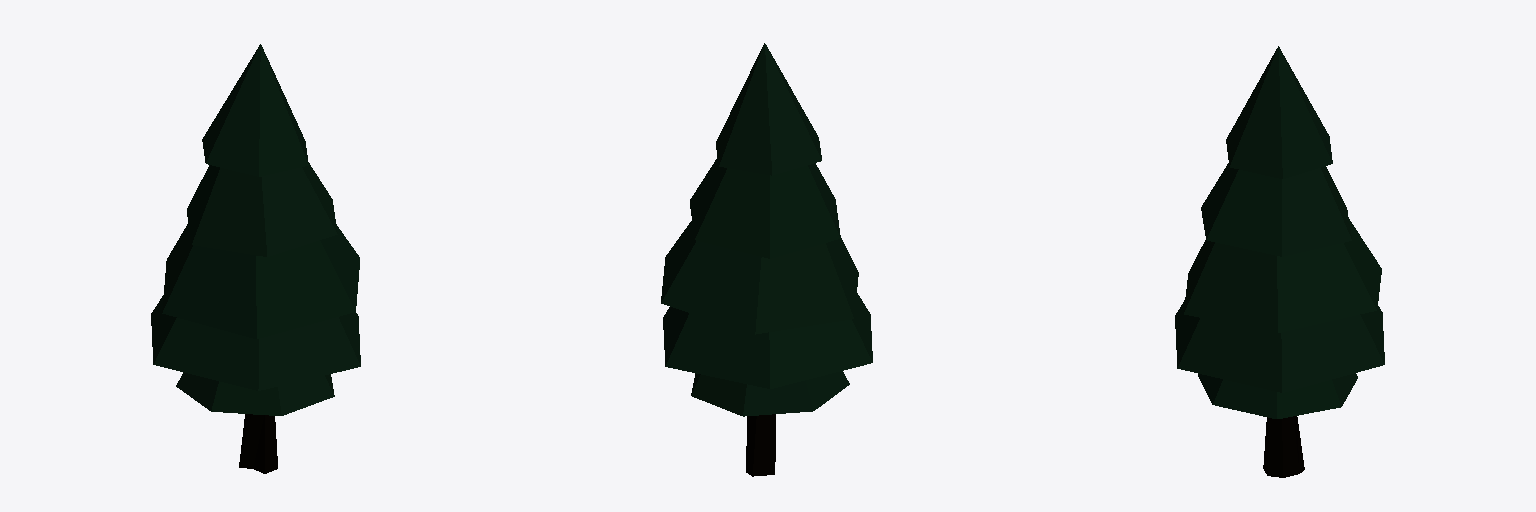
Rendered from pinetree.obj.
3 views of the same model, side by side, from view 1: azimuth 30°, elevation 25°; view 2: azimuth 150°, elevation 25°; view 3: azimuth 270°, elevation 25° (orthographic).
Visible parts, largest first — view 1: Pine_Tree pCone5, Pine_Tree pCone3, Pine_Tree pCone4, Pine_Tree pCone6, Pine_Tree pCone2, pCylinder9 Pine_Tree; view 2: Pine_Tree pCone5, Pine_Tree pCone3, Pine_Tree pCone4, Pine_Tree pCone6, Pine_Tree pCone2, pCylinder9 Pine_Tree; view 3: Pine_Tree pCone5, Pine_Tree pCone3, Pine_Tree pCone4, Pine_Tree pCone6, Pine_Tree pCone2, pCylinder9 Pine_Tree.
Part boxes in pixels (left/top/right/bottom): Pine_Tree pCone5: left=162, top=223, right=359, bottom=338; Pine_Tree pCone3: left=151, top=295, right=360, bottom=390; Pine_Tree pCone4: left=187, top=163, right=337, bottom=256; Pine_Tree pCone6: left=202, top=44, right=308, bottom=176; Pine_Tree pCone2: left=176, top=372, right=334, bottom=415; pCylinder9 Pine_Tree: left=239, top=414, right=277, bottom=473; Pine_Tree pCone5: left=661, top=221, right=858, bottom=334; Pine_Tree pCone3: left=663, top=293, right=872, bottom=388; Pine_Tree pCone4: left=690, top=157, right=840, bottom=258; Pine_Tree pCone6: left=716, top=43, right=821, bottom=175; Pine_Tree pCone2: left=691, top=371, right=849, bottom=416; pCylinder9 Pine_Tree: left=746, top=414, right=775, bottom=476; Pine_Tree pCone5: left=1184, top=219, right=1381, bottom=332; Pine_Tree pCone3: left=1175, top=300, right=1384, bottom=392; Pine_Tree pCone4: left=1201, top=163, right=1351, bottom=256; Pine_Tree pCone6: left=1226, top=46, right=1332, bottom=178; Pine_Tree pCone2: left=1198, top=373, right=1357, bottom=418; pCylinder9 Pine_Tree: left=1263, top=416, right=1304, bottom=477.
Size of the model in its own units: 4.13 by 8.07 by 3.62.